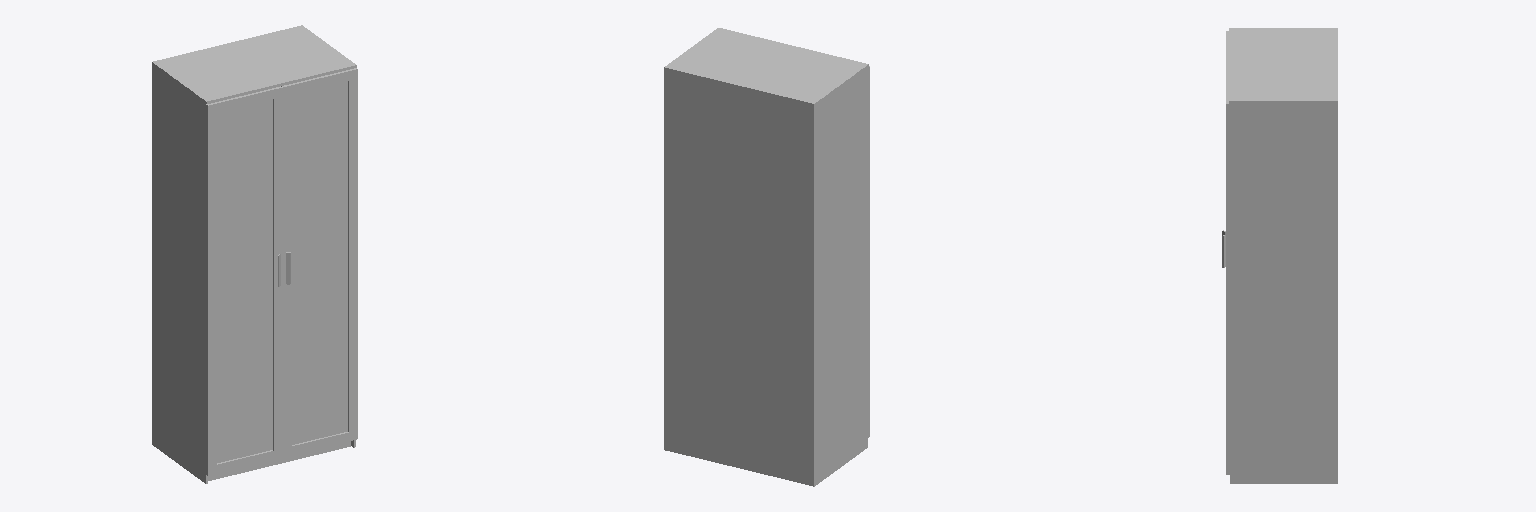
Rendered from BRIMNES.obj.
3 renders of one model, left to right at view 1: azimuth 30°, elevation 25°; view 2: azimuth 150°, elevation 25°; view 3: azimuth 270°, elevation 25°, orthographic.
Visible parts, largest first — view 1: Cube.006_Cube.007; view 2: Cube.006_Cube.007; view 3: Cube.006_Cube.007.
Boxes of the visible parts, <box> form: Cube.006_Cube.007: <box>152,25,357,483</box>; Cube.006_Cube.007: <box>664,28,869,486</box>; Cube.006_Cube.007: <box>1226,28,1337,483</box>.
Size of the model in its own units: 1.56 by 3.8 by 1.04.